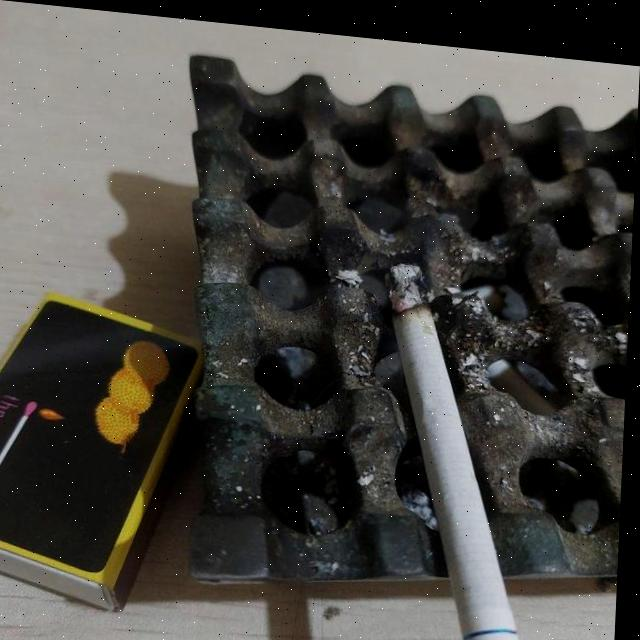cigarette: (374, 255, 551, 640)
